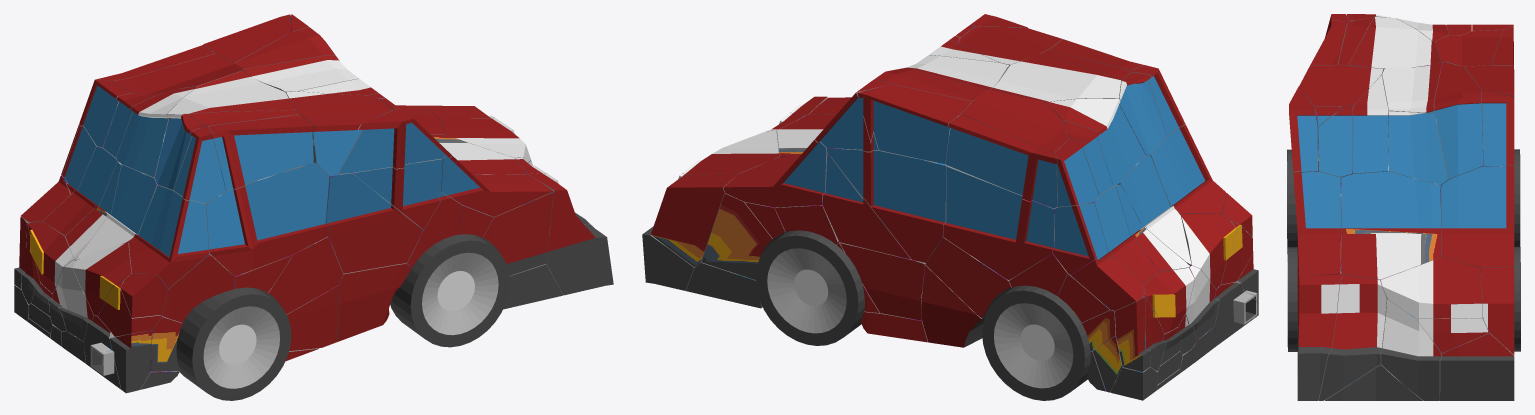
Rendered from player_fractured.fbx.
3 renders of one model, left to right at view 1: azimuth 30°, elevation 25°; view 2: azimuth 150°, elevation 25°; view 3: azimuth 270°, elevation 25°, orthographic. The views are drawn at different scales.
Parts seen in each view (by area): view 1: Cylinder.055, Cube.014_cell.055, Cylinder.056, Cube.014_cell, Cube.014_cell.044, Cube.014_cell.072, Cube.014_cell.012, Cube.014_cell.008, Cube.014_cell.087, Cube.014_cell.083, Cube.014_cell.070, Cube.014_cell.063 (+40 smaller); view 2: Cylinder.054, Cylinder.057, Cube.014_cell.024, Cube.014_cell.091, Cube.014_cell.090, Cube.014_cell.062, Cube.014_cell.035, Cube.014_cell.050, Cube.014_cell.057, Cube.014_cell.072, Cube.014_cell.052, Cube.014_cell.041 (+43 smaller); view 3: Cube.014_cell.002, Cube.014_cell.050, Cube.014_cell.019, Cube.014_cell.083, Cube.014_cell.047, Cube.014_cell.012, Cube.014_cell.059, Cube.014_cell.061, Cube.014_cell.009, Cube.014_cell.048, Cube.014_cell.057, Cube.014_cell.017 (+22 smaller).
Part boxes in pixels (x1,y1,x2,y2): Cylinder.055: (176, 287, 291, 400); Cube.014_cell.055: (206, 162, 329, 276); Cylinder.056: (390, 234, 509, 347); Cube.014_cell: (325, 173, 423, 273); Cube.014_cell.044: (208, 114, 315, 190); Cube.014_cell.072: (129, 185, 209, 288); Cube.014_cell.012: (527, 173, 613, 295); Cube.014_cell.008: (286, 91, 393, 176); Cube.014_cell.087: (340, 108, 451, 173); Cube.014_cell.083: (441, 155, 553, 216); Cube.014_cell.070: (472, 192, 553, 275); Cube.014_cell.063: (337, 263, 411, 341); Cylinder.054: (755, 230, 864, 345); Cylinder.057: (982, 285, 1090, 400); Cube.014_cell.024: (943, 165, 1060, 279); Cube.014_cell.091: (827, 148, 947, 262); Cube.014_cell.090: (945, 114, 1057, 208); Cube.014_cell.062: (857, 84, 971, 163); Cube.014_cell.035: (651, 173, 739, 266); Cube.014_cell.050: (723, 139, 827, 207); Cube.014_cell.057: (990, 53, 1121, 101); Cube.014_cell.072: (1149, 124, 1225, 214); Cube.014_cell.052: (840, 242, 925, 320); Cube.014_cell.041: (1043, 98, 1144, 185); Cube.014_cell.002: (1341, 171, 1441, 280); Cube.014_cell.050: (1440, 165, 1514, 274); Cube.014_cell.019: (1381, 257, 1482, 318); Cube.014_cell.083: (1293, 171, 1340, 276); Cube.014_cell.047: (1434, 62, 1483, 179); Cube.014_cell.012: (1297, 274, 1342, 400); Cube.014_cell.059: (1440, 333, 1514, 400); Cube.014_cell.061: (1381, 299, 1449, 400); Cube.014_cell.009: (1331, 274, 1387, 361); Cube.014_cell.048: (1388, 111, 1447, 191); Cube.014_cell.057: (1348, 17, 1440, 137); Cube.014_cell.017: (1353, 75, 1388, 173).
Bounding box in the file's own units: 206 × 100 × 92.11.
Materials: 1 (1 with a texture image).
